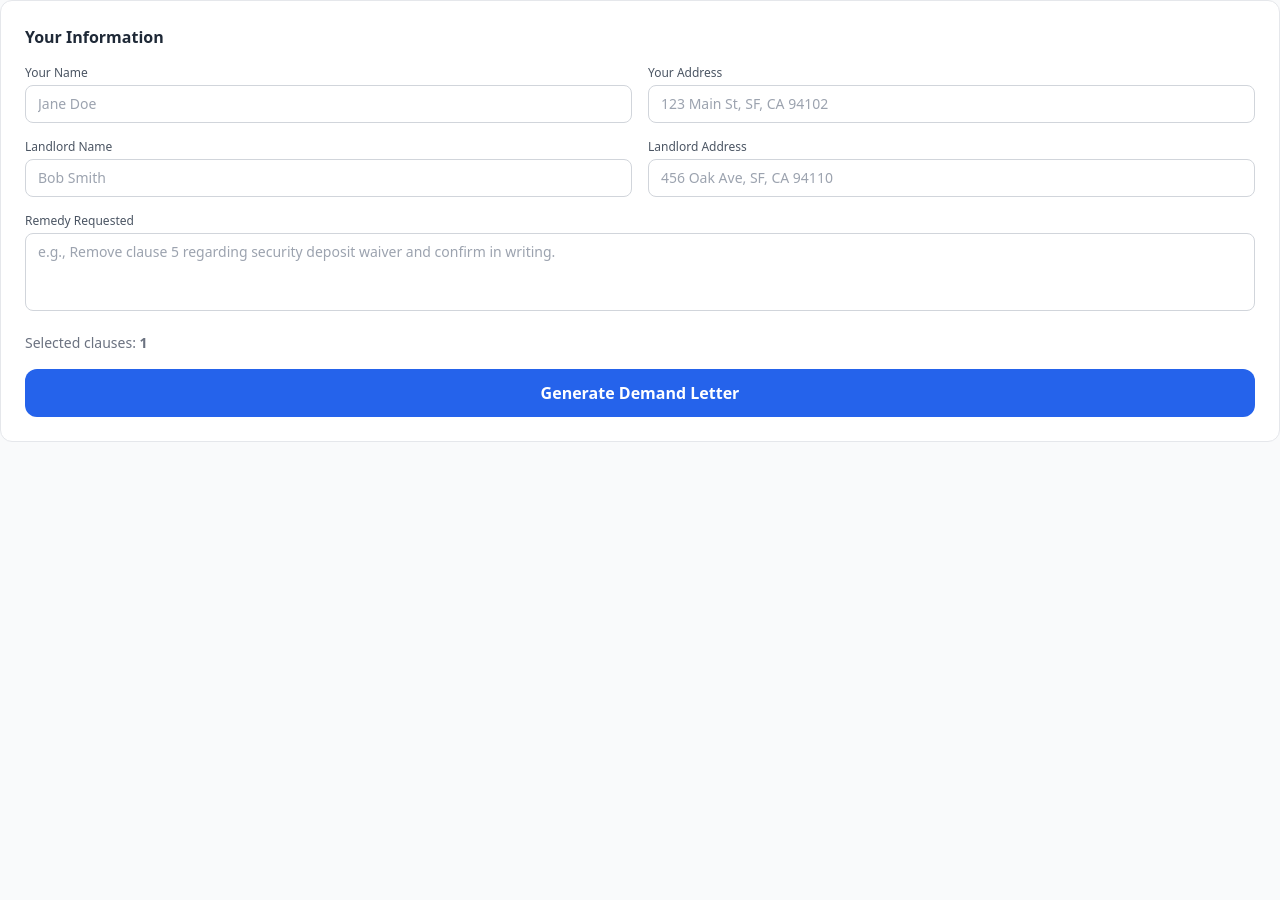
Test: DemandLetter › renders the generated letter text after API resolves
Step 1. Click the button "Generate Demand Letter" → point(640, 393), box [25,369,1255,417]
(page scrolled)
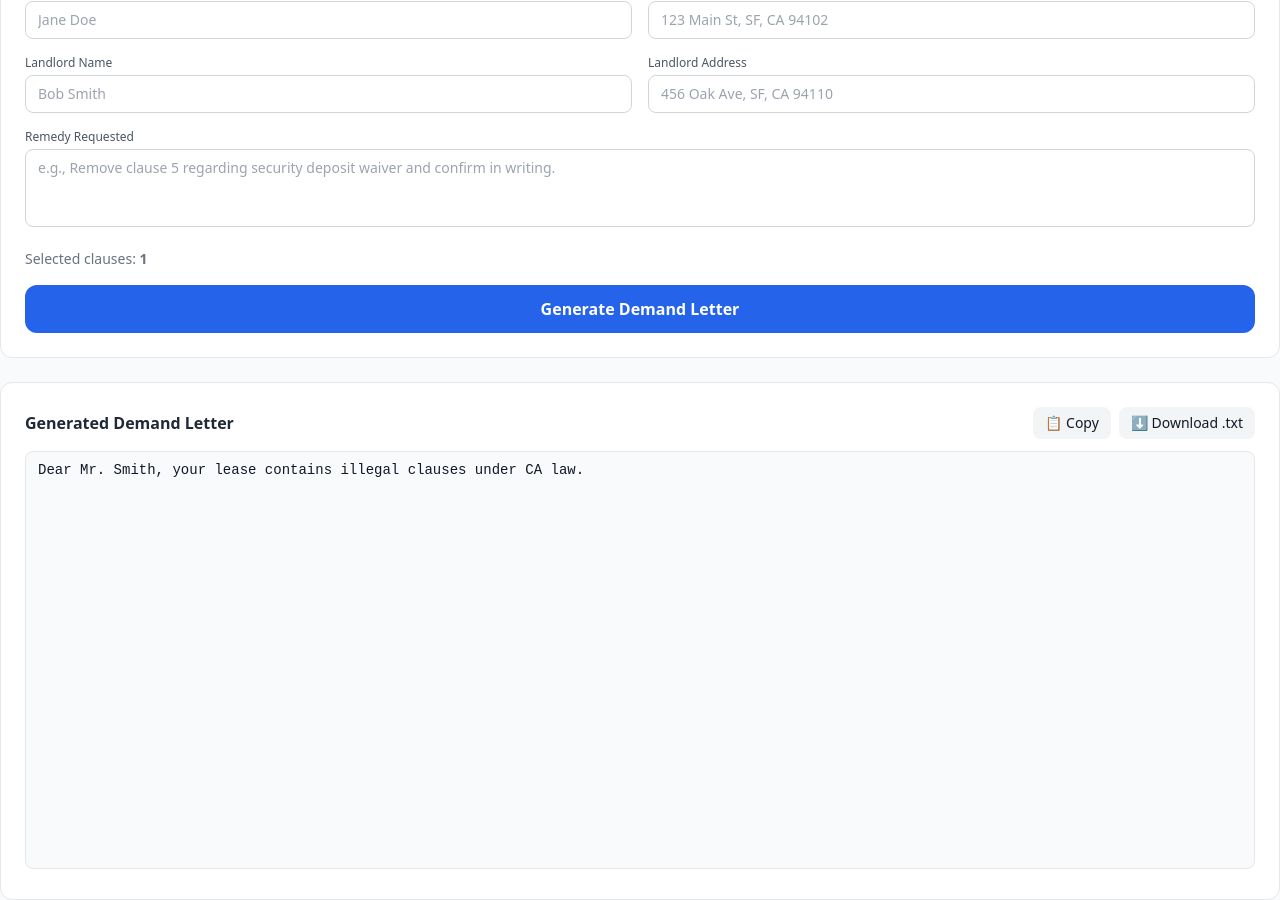
Expected: the text box "Dear Mr. Smith" is shown, [25,451,1255,869]
